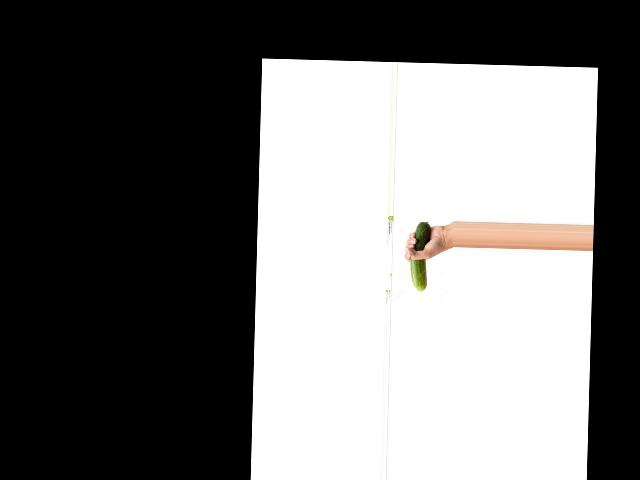cucumber: (408, 222, 430, 291)
